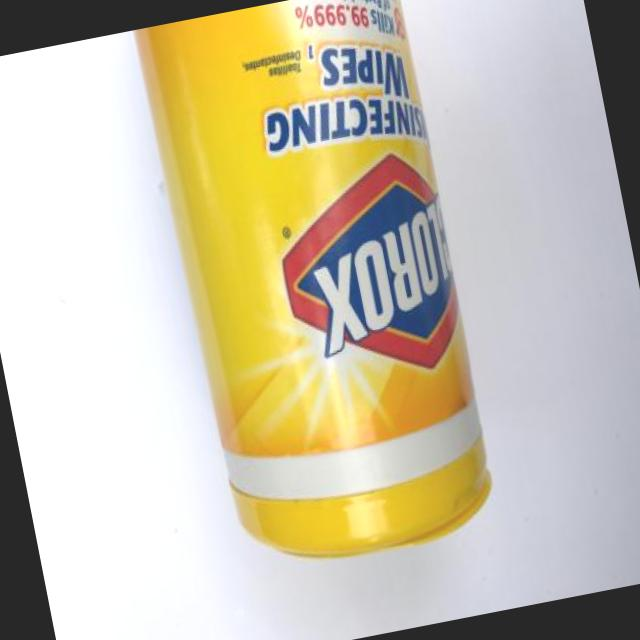Recycle: (132, 0, 511, 584)
